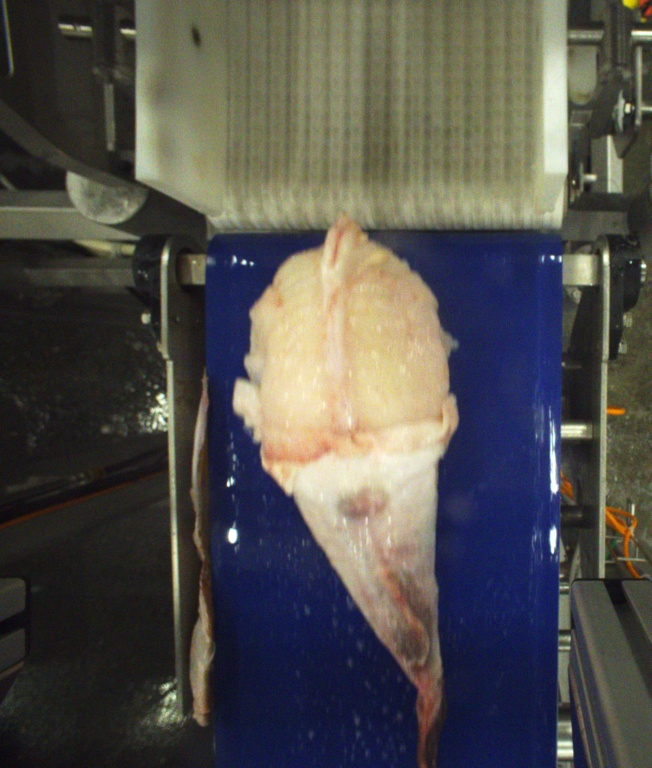ANF: (235, 219, 470, 765)
